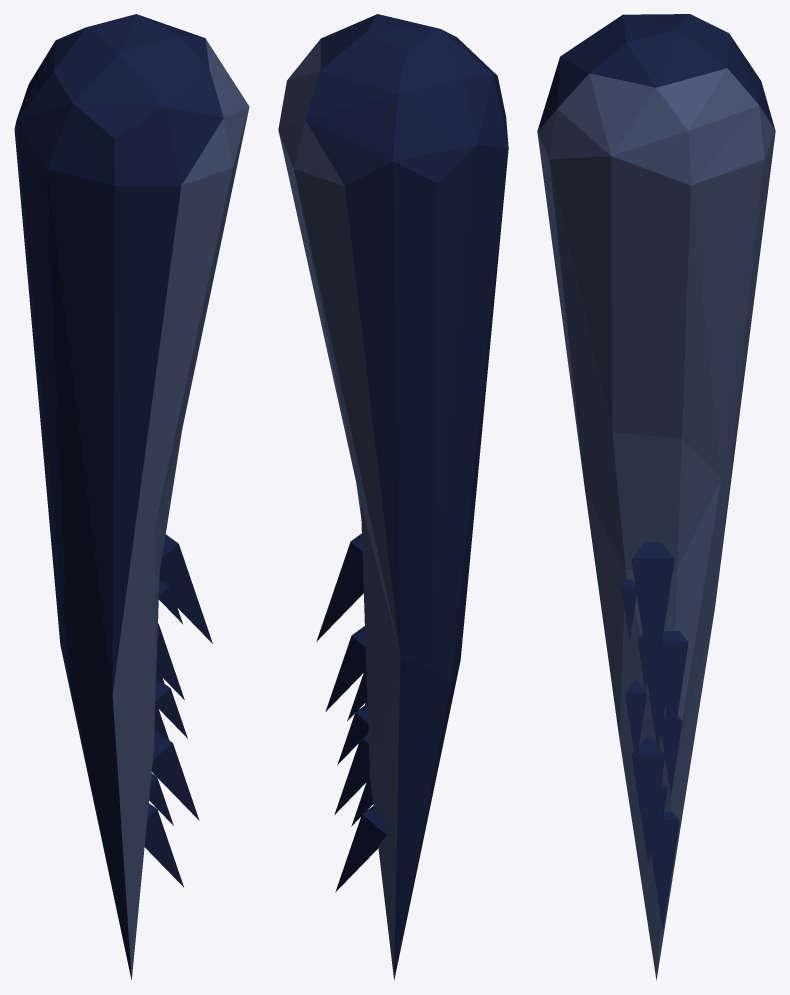
The model's file is spider foot.obj.
The picture shows the model from 3 angles, left to right: view 1: azimuth 30°, elevation 25°; view 2: azimuth 150°, elevation 25°; view 3: azimuth 270°, elevation 25°; orthographic projection.
Visible parts, largest first — view 1: foot_Cone, Cube.003_Cube, Cube.006_Cube, Cube.008_Cube, Cube.002_Cube; view 2: foot_Cone, Cube.003_Cube, Cube.008_Cube, Cube.007_Cube, Cube.006_Cube, Cube.010_Cube; view 3: foot_Cone, Cube.003_Cube, Cube.006_Cube, Cube.007_Cube, Cube.008_Cube, Cube.002_Cube, Cube.010_Cube, Cube.001_Cube, Cube.009_Cube.
Part boxes in pixels (x1,y1,x2,y2): foot_Cone: (14,14,249,979); Cube.003_Cube: (159,534,212,643); Cube.006_Cube: (152,731,199,820); Cube.008_Cube: (144,803,183,887); Cube.002_Cube: (155,680,187,738); foot_Cone: (278,14,508,980); Cube.003_Cube: (316,533,363,641); Cube.008_Cube: (335,806,387,892); Cube.007_Cube: (325,626,366,711); Cube.006_Cube: (334,734,369,814); Cube.010_Cube: (337,704,368,764); foot_Cone: (537,14,775,980); Cube.003_Cube: (632,542,673,698); Cube.006_Cube: (632,737,664,864); Cube.007_Cube: (659,630,688,749); Cube.008_Cube: (650,811,679,930); Cube.002_Cube: (625,680,646,763); Cube.010_Cube: (661,713,682,794); Cube.001_Cube: (647,662,665,752); Cube.009_Cube: (621,579,636,640).
Bounding box in the file's own units: 0.3744 × 1.72 × 0.3875.
